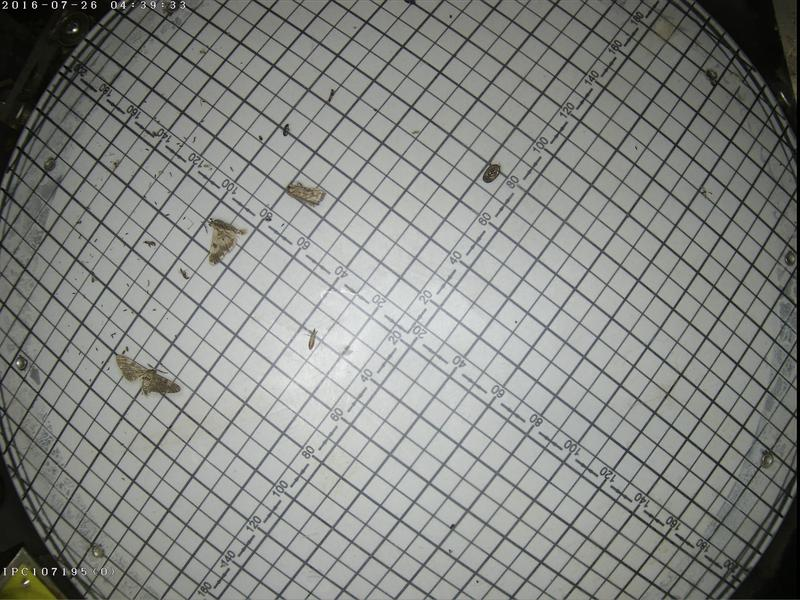Spodoptera litura: (284, 180, 324, 207)
